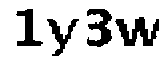1: (9, 6, 44, 50)
3: (82, 5, 112, 51)
w: (112, 15, 160, 53)
y: (47, 15, 79, 59)
